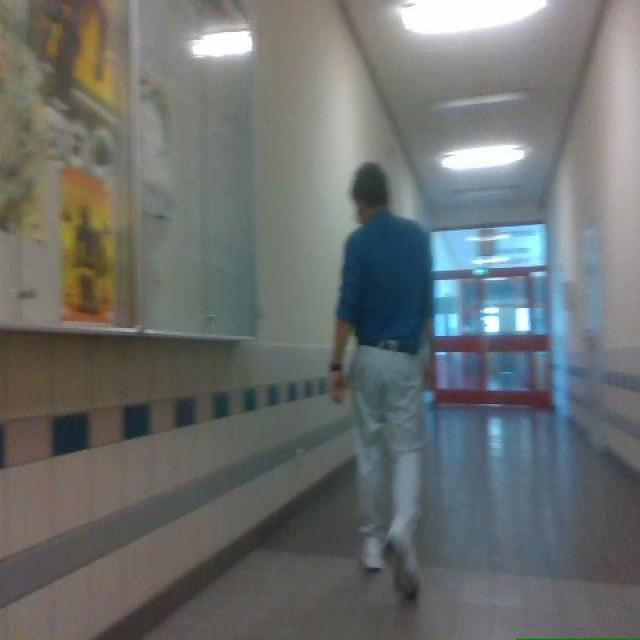humans: (330, 164, 430, 599)
